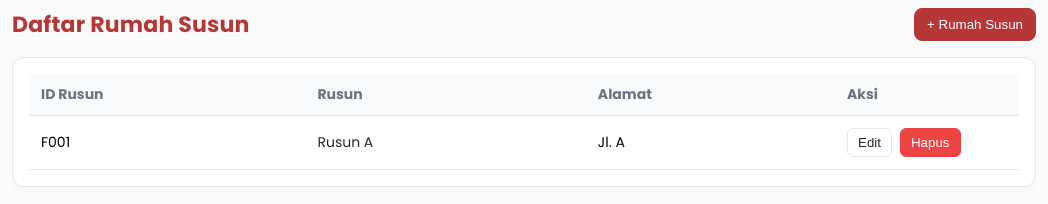
Test: FlatList (admin) › menghapus rusun ketika deleteFlat sukses
Expected: the link "Rusun A" is shown, [317,132,381,152]
Click the button "Hapus" at (930, 142), box [900,128,960,157]
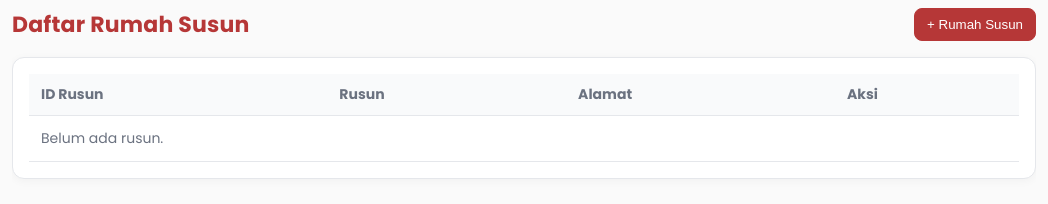
Now the text "Belum ada rusun." is shown, box [29,116,1019,162]
